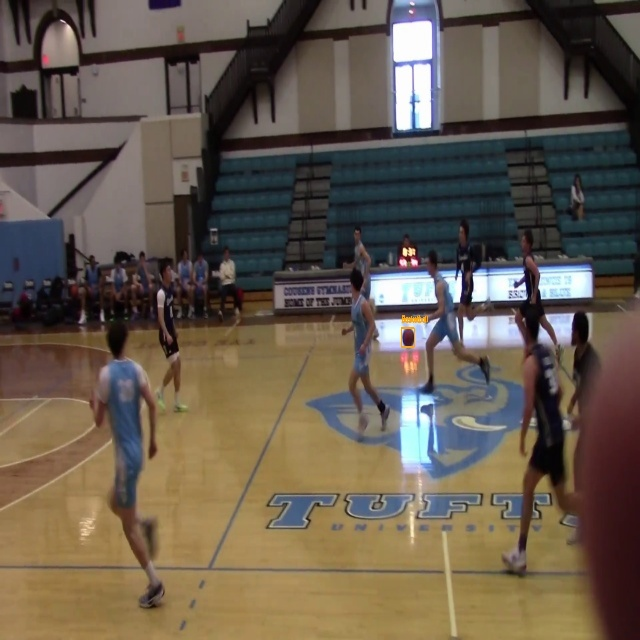Basketball: (402, 328, 414, 347)
